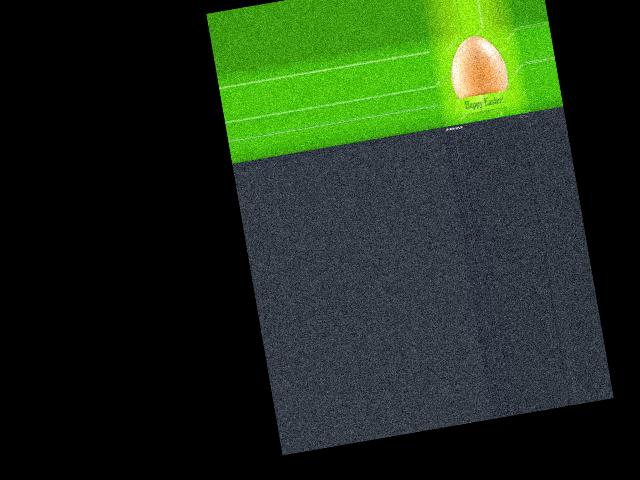egg: (445, 31, 510, 98)
